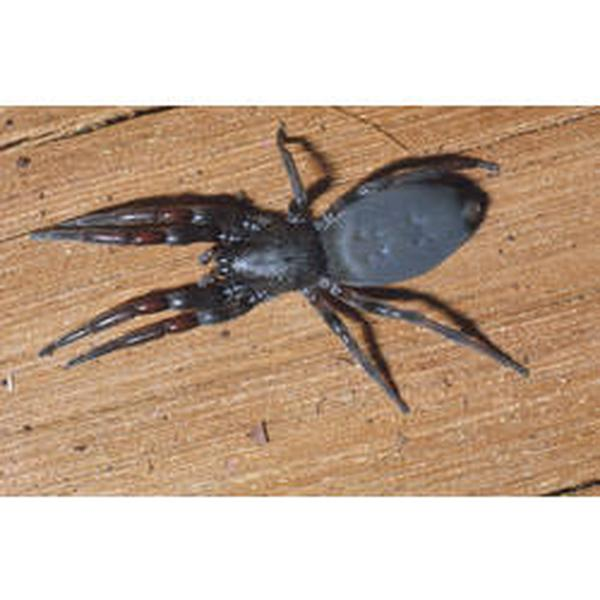White-Tailed Spider: (36, 144, 531, 391)
